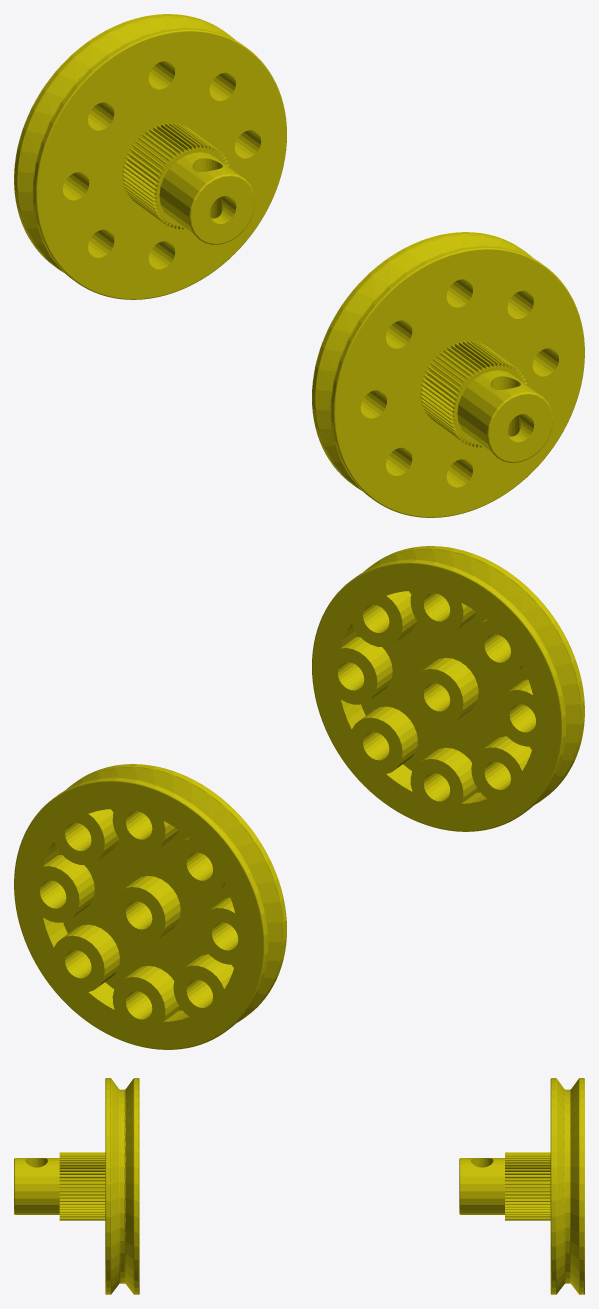
File: 3_guest.glb
3 renders of one model, top to bottom at view 1: azimuth 30°, elevation 25°; view 2: azimuth 150°, elevation 25°; view 3: azimuth 270°, elevation 25°, orthographic. The views are drawn at different scales.
Parts seen in each view (by area): view 1: BanhRang_RongRoc (×2); view 2: BanhRang_RongRoc (×2); view 3: BanhRang_RongRoc (×2).
Boxes of the visible parts, bbox=[...] form: BanhRang_RongRoc (×2): bbox=[14, 14, 584, 517]; BanhRang_RongRoc (×2): bbox=[14, 546, 584, 1049]; BanhRang_RongRoc (×2): bbox=[14, 1078, 584, 1294].
Bounding box in the file's own units: 0.974 × 0.9738 × 2.56.
